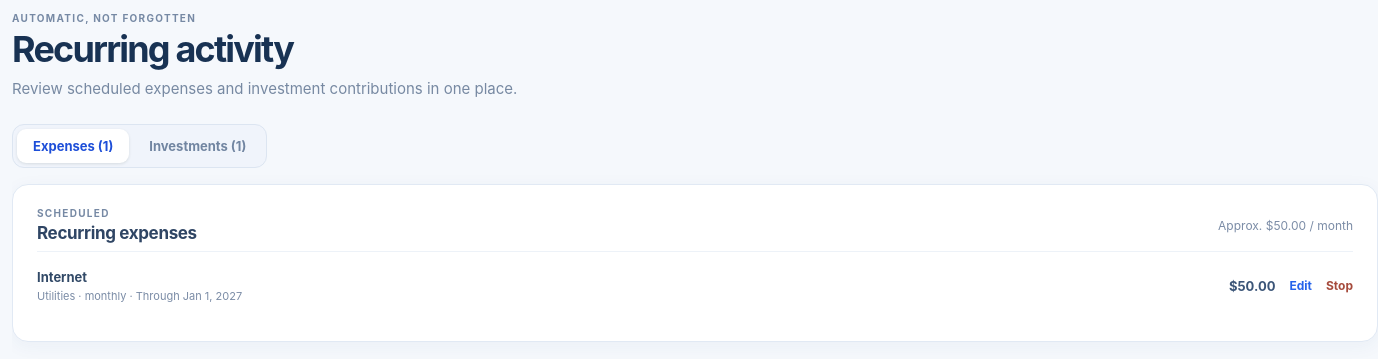
it: RecurringPage › lists recurring expenses and switches to recurring investments
Expected: the text "Internet" is shown, [37, 269, 87, 285]
Expected: the text "Utilities · monthly · Through Jan 1, 2027" is shown, [37, 289, 242, 303]
Click the button "Investments (1)" at (198, 146), box [133, 129, 262, 163]
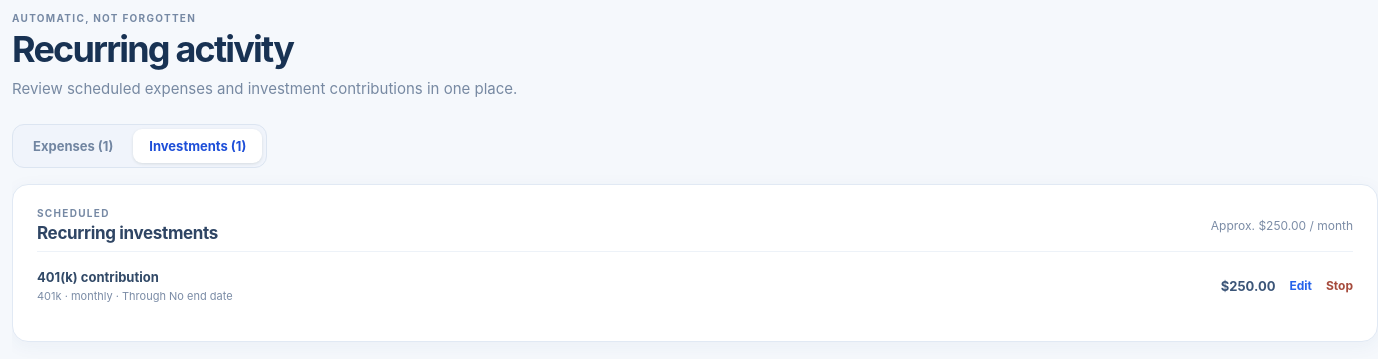
Expected: the text "401(k) contribution" is shown, [37, 269, 159, 285]
